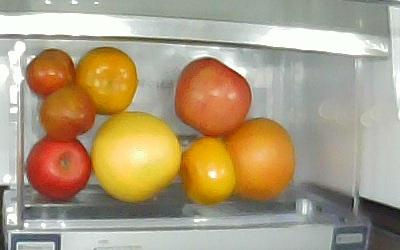apple: (175, 58, 252, 138), (27, 136, 91, 200)
grapefruit: (91, 112, 182, 203), (225, 118, 295, 201)
persimmon: (75, 47, 139, 115), (181, 137, 235, 206)
prune: (41, 84, 95, 137), (27, 49, 74, 98)
